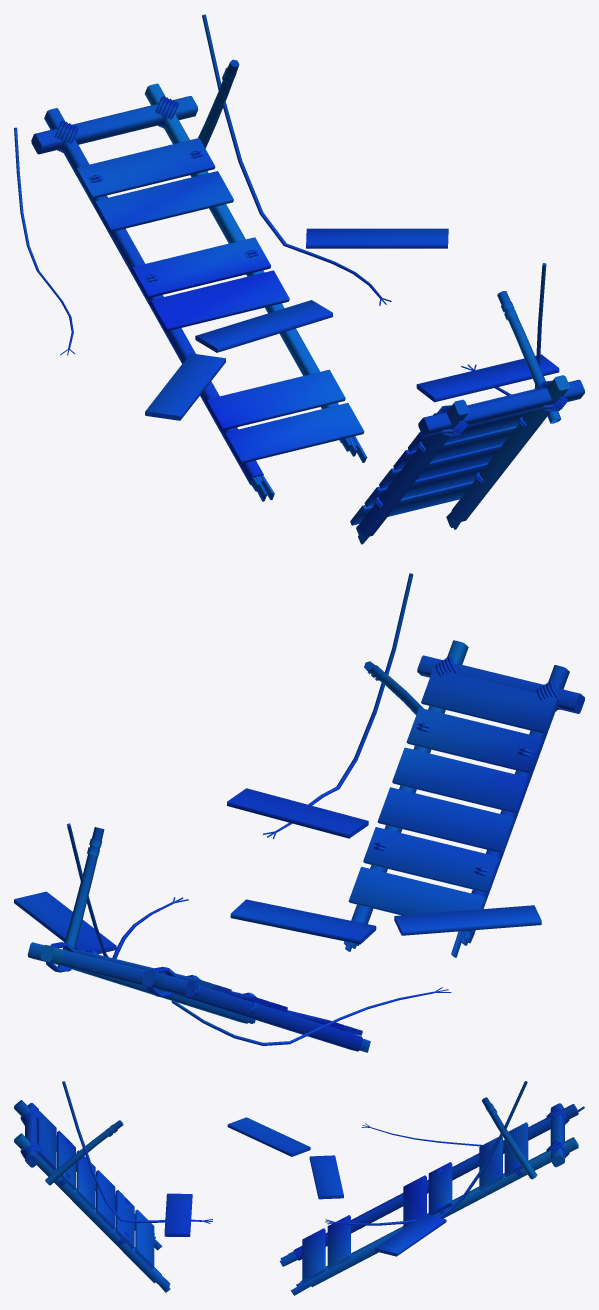
The model's file is plank_bridge_broken.glb.
3 renders of one model, top to bottom at view 1: azimuth 30°, elevation 25°; view 2: azimuth 150°, elevation 25°; view 3: azimuth 270°, elevation 25°, orthographic. The views are drawn at different scales.
Parts seen in each view (by area): view 1: plank_bridge_broken; view 2: plank_bridge_broken; view 3: plank_bridge_broken.
Part boxes in pixels (x1,y1,x2,y2): plank_bridge_broken: (14, 14, 584, 544); plank_bridge_broken: (14, 573, 584, 1052); plank_bridge_broken: (14, 1081, 584, 1295).
Size of what is drawn, in the model's own units: 3.71 by 2.81 by 6.51.
